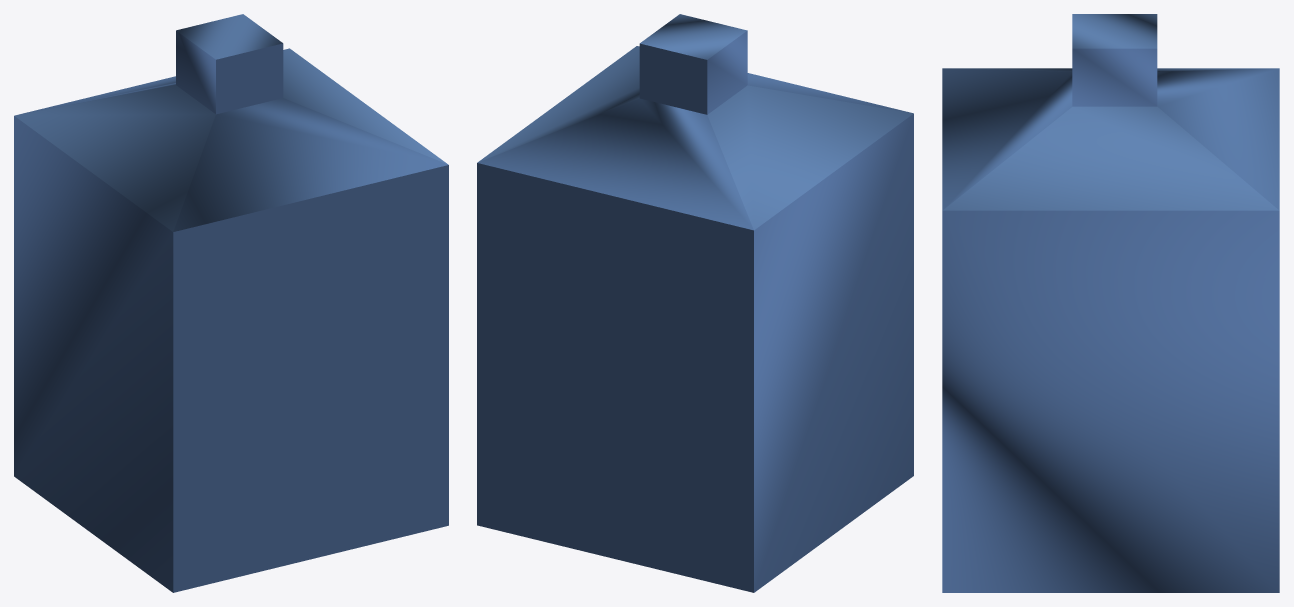
File: apoc_prop_42.glb
3 views of the same model, side by side, from view 1: azimuth 30°, elevation 25°; view 2: azimuth 150°, elevation 25°; view 3: azimuth 270°, elevation 25° (orthographic). The views are drawn at different scales.
Visible parts, largest first — view 1: prop_044; view 2: prop_044; view 3: prop_044.
Part boxes in pixels (x1,y1,x2,y2): prop_044: [14, 14, 448, 592]; prop_044: [477, 14, 913, 592]; prop_044: [942, 14, 1279, 592].
Size of the model in its own units: 0.0613 by 0.0982 by 0.0612.
Materials: 1 (1 with a texture image).
